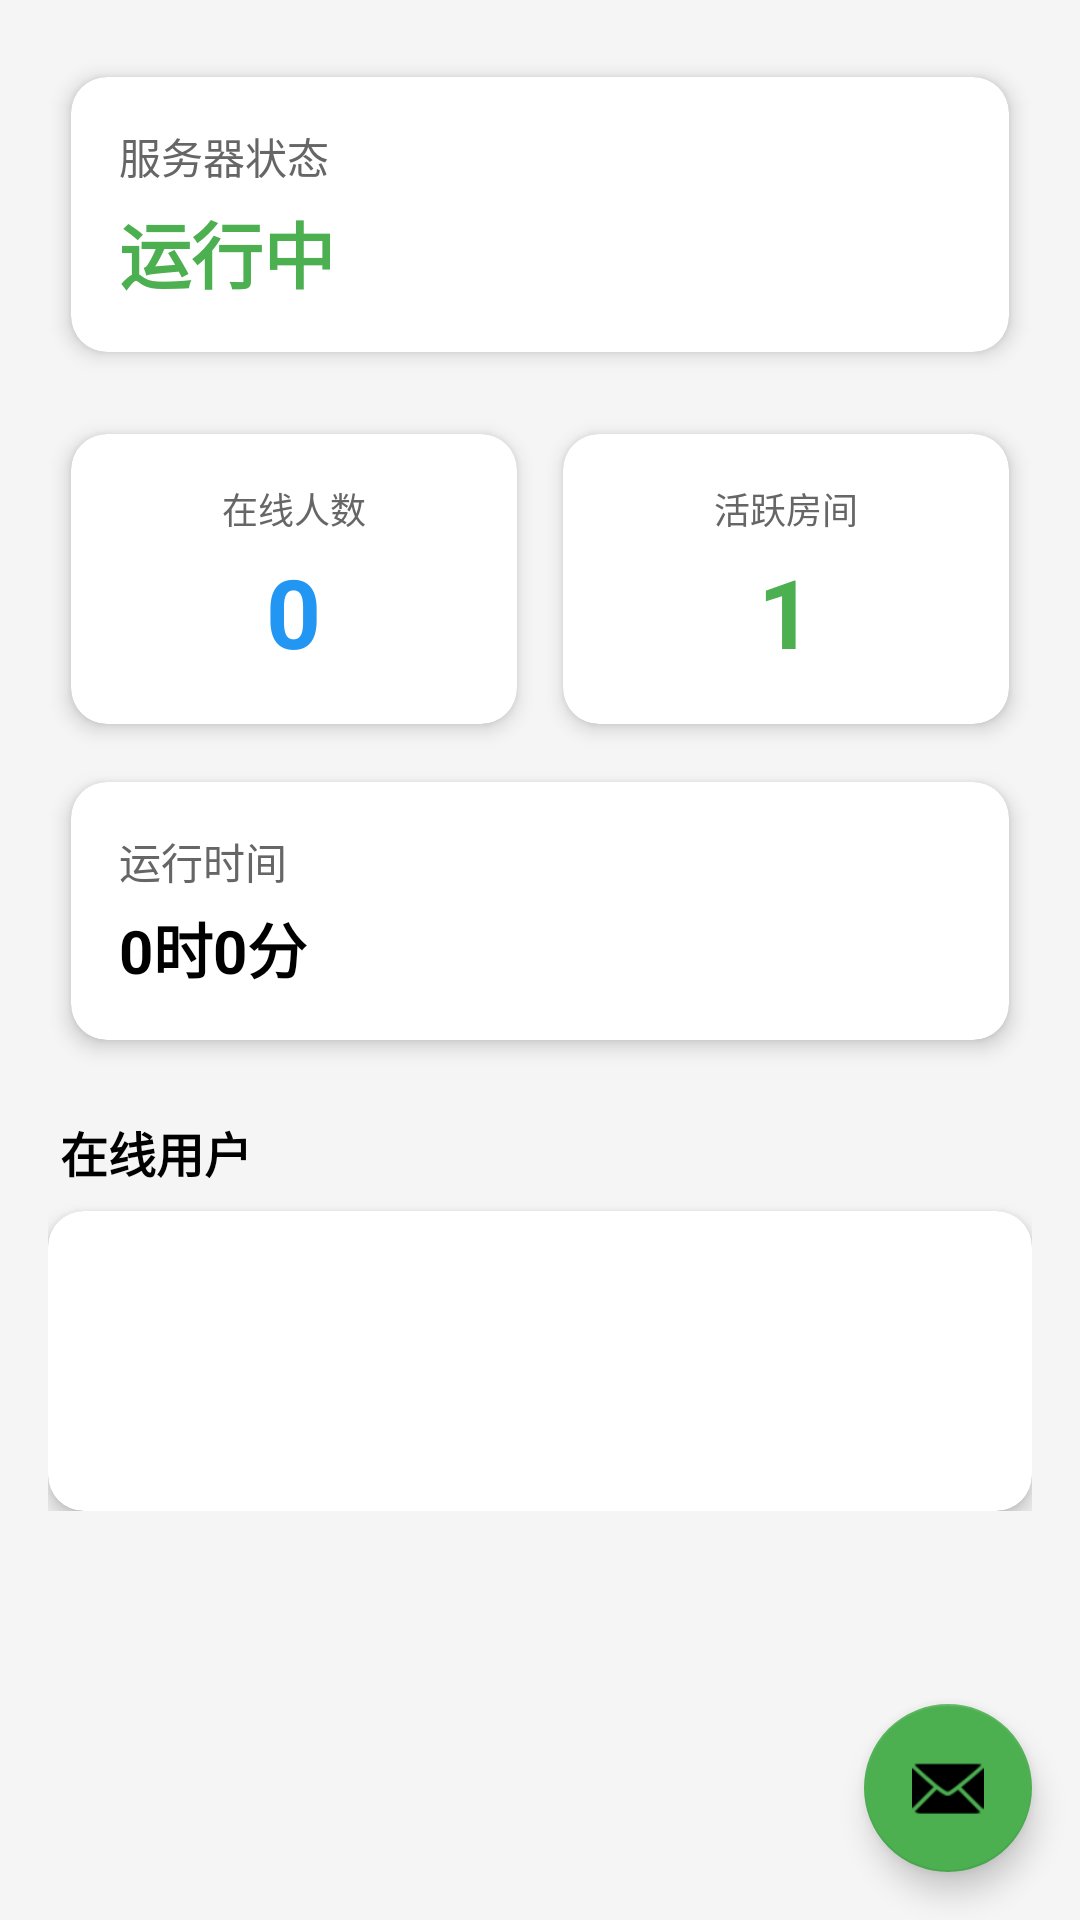

Named icons in this screenshot (1080px x 1920px) and their bounding boxes, rect(x1, y1, x2, y2):
发送公告: rect(864, 1704, 1032, 1872)
